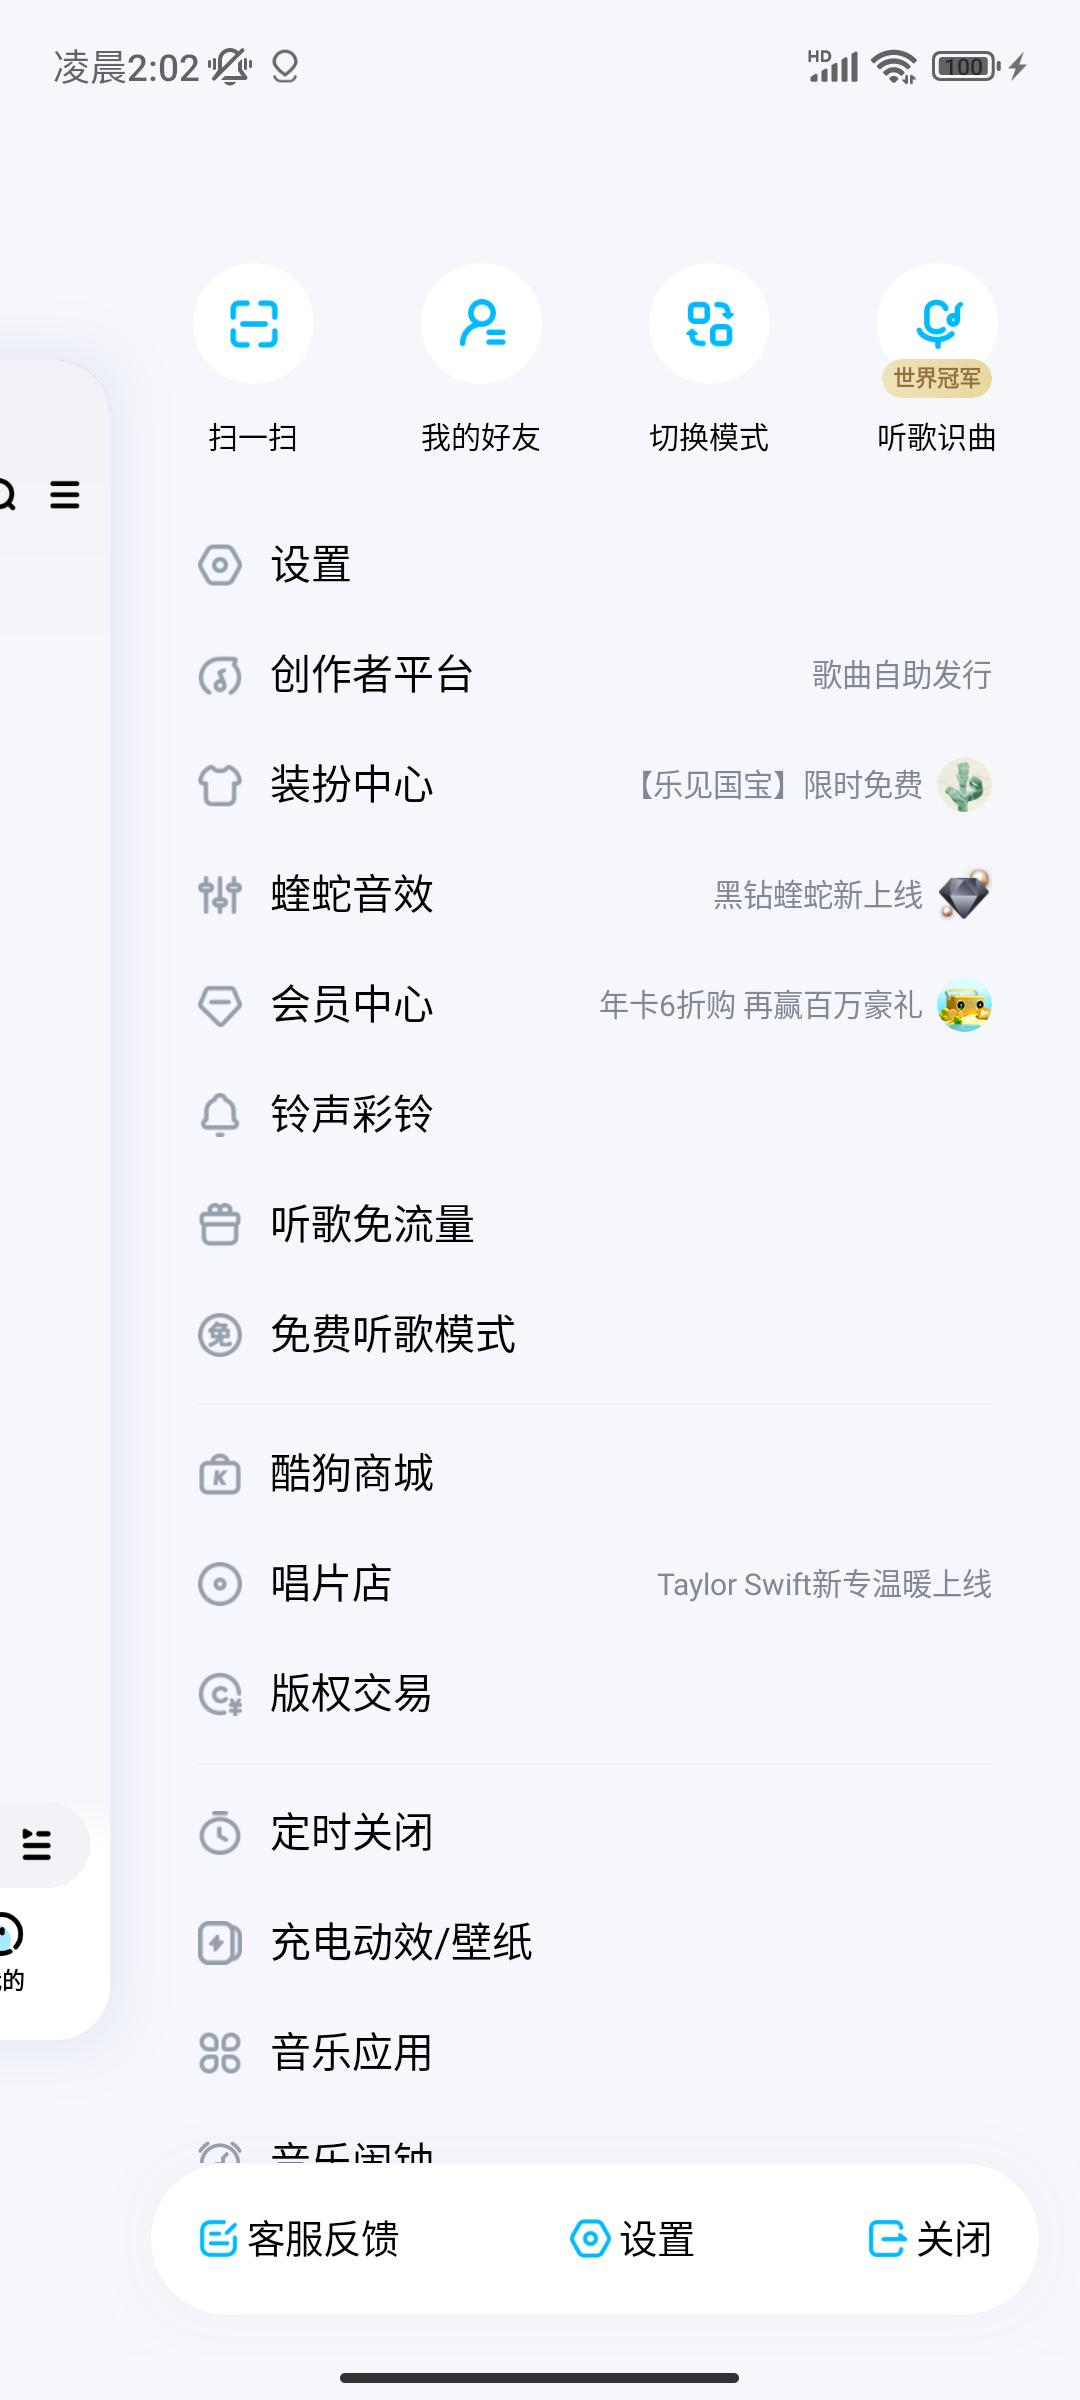ui_group: (177, 516, 1023, 629), (187, 949, 1030, 1062), (182, 727, 1028, 837), (196, 1419, 1049, 1528), (193, 1280, 1040, 1384), (185, 1893, 1042, 1991), (184, 1785, 1040, 1881), (185, 2011, 1042, 2108), (187, 846, 1030, 944), (193, 1538, 1046, 1633), (194, 1070, 1033, 1166), (184, 626, 1028, 721), (190, 1180, 1036, 1273), (190, 1650, 1049, 1739), (626, 251, 795, 479), (405, 251, 566, 484), (174, 256, 340, 481), (857, 251, 1017, 479), (182, 2193, 428, 2284), (546, 2193, 742, 2291), (843, 2193, 1013, 2290)
